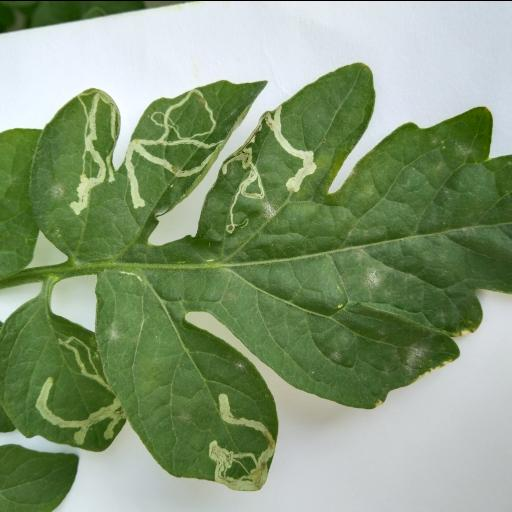Leaf Miner: (31, 62, 512, 492), (0, 296, 126, 453)
